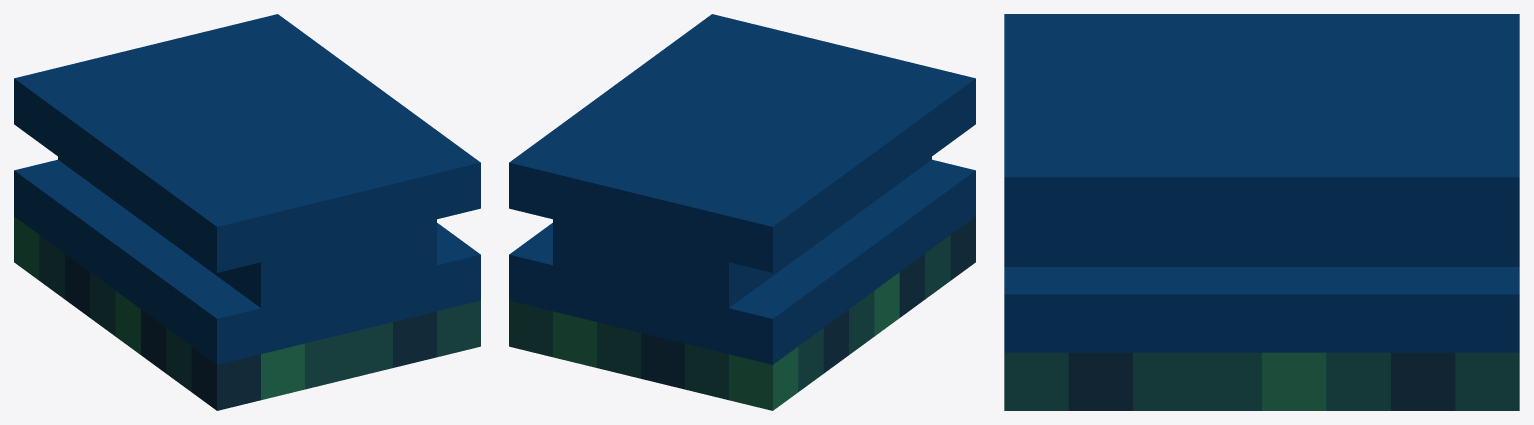
File: Sponge.obj
3 views of the same model, side by side, from view 1: azimuth 30°, elevation 25°; view 2: azimuth 150°, elevation 25°; view 3: azimuth 270°, elevation 25° (orthographic). The views are drawn at different scales.
Size of the model in its own units: 0.6 by 0.4 by 0.8.
1 material, 1 textured.
